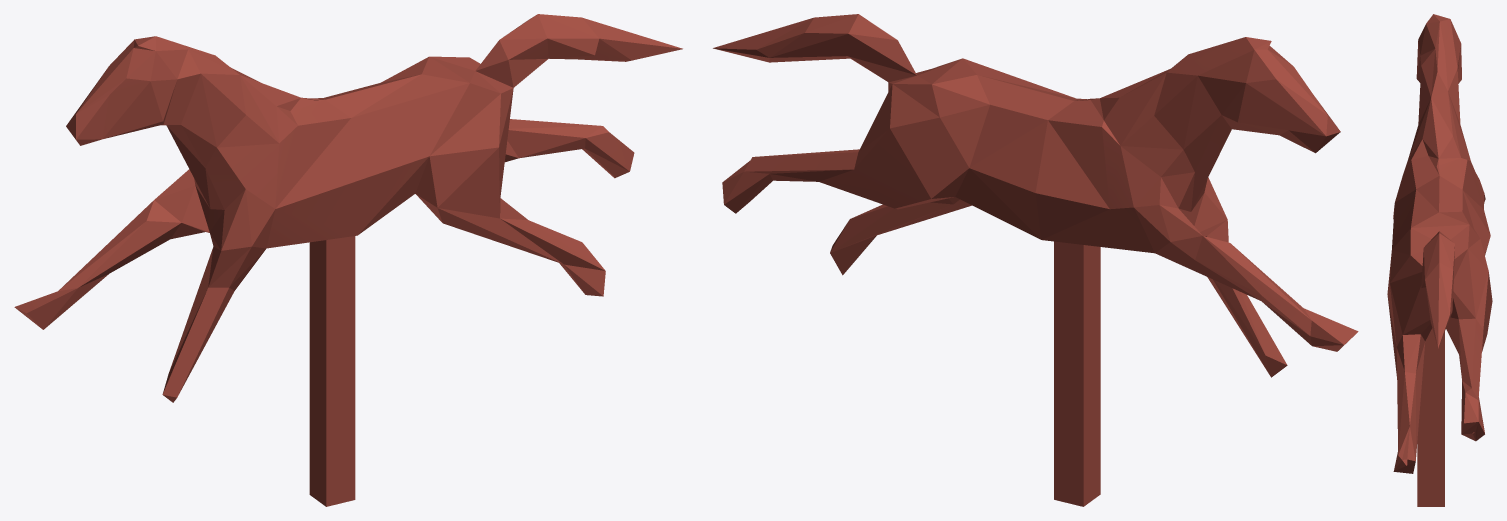
File: SM_Prop_Horse_Game_01_Horse_02.obj
3 renders of one model, left to right at view 1: azimuth 30°, elevation 25°; view 2: azimuth 150°, elevation 25°; view 3: azimuth 270°, elevation 25°, orthographic. The views are drawn at different scales.
Parts seen in each view (by area): view 1: SM_Prop_Horse_Game_01_Horse_02_0; view 2: SM_Prop_Horse_Game_01_Horse_02_0; view 3: SM_Prop_Horse_Game_01_Horse_02_0.
Boxes of the visible parts, x1=… form: SM_Prop_Horse_Game_01_Horse_02_0: x1=14, y1=14, x2=682, y2=506; SM_Prop_Horse_Game_01_Horse_02_0: x1=713, y1=14, x2=1358, y2=506; SM_Prop_Horse_Game_01_Horse_02_0: x1=1387, y1=14, x2=1492, y2=506.
Bounding box in the file's own units: 0.3008 × 0.2217 × 0.0514.
1 material, 1 textured.
